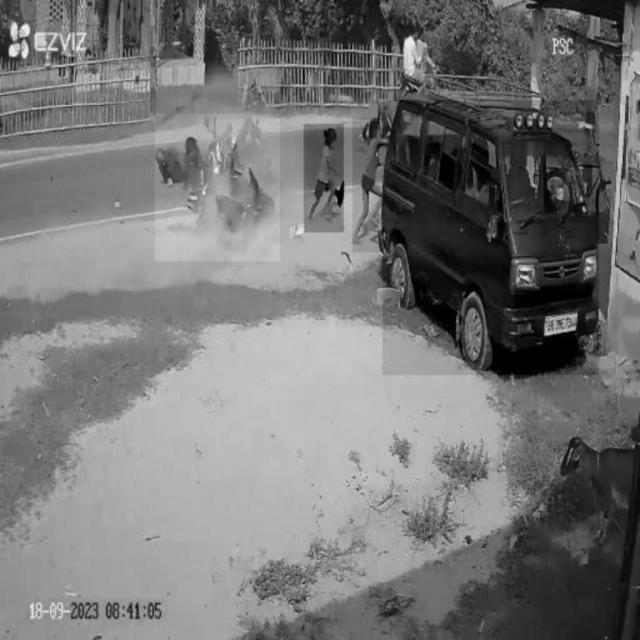accident: (155, 114, 279, 261)
person: (353, 118, 389, 252), (304, 124, 344, 232)
vehicle: (383, 100, 599, 374)
